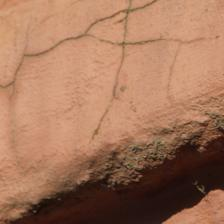Crack: (92, 2, 138, 136), (90, 2, 207, 45), (3, 32, 86, 91)
